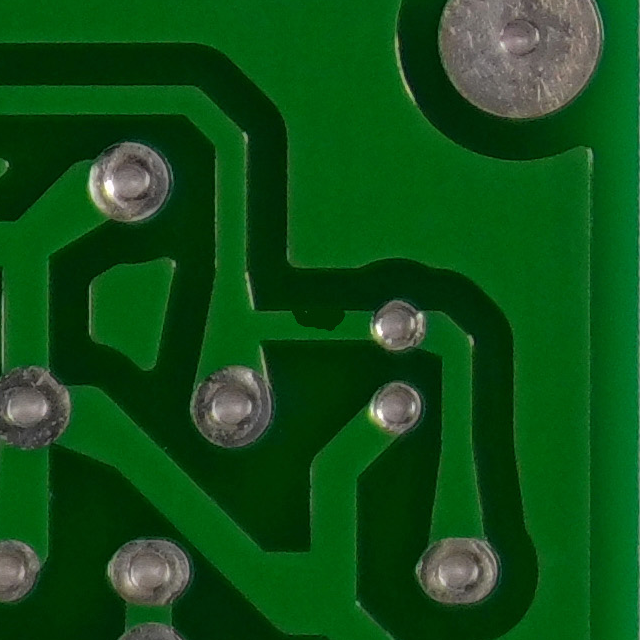mouse_bite: (283, 293, 358, 348)
